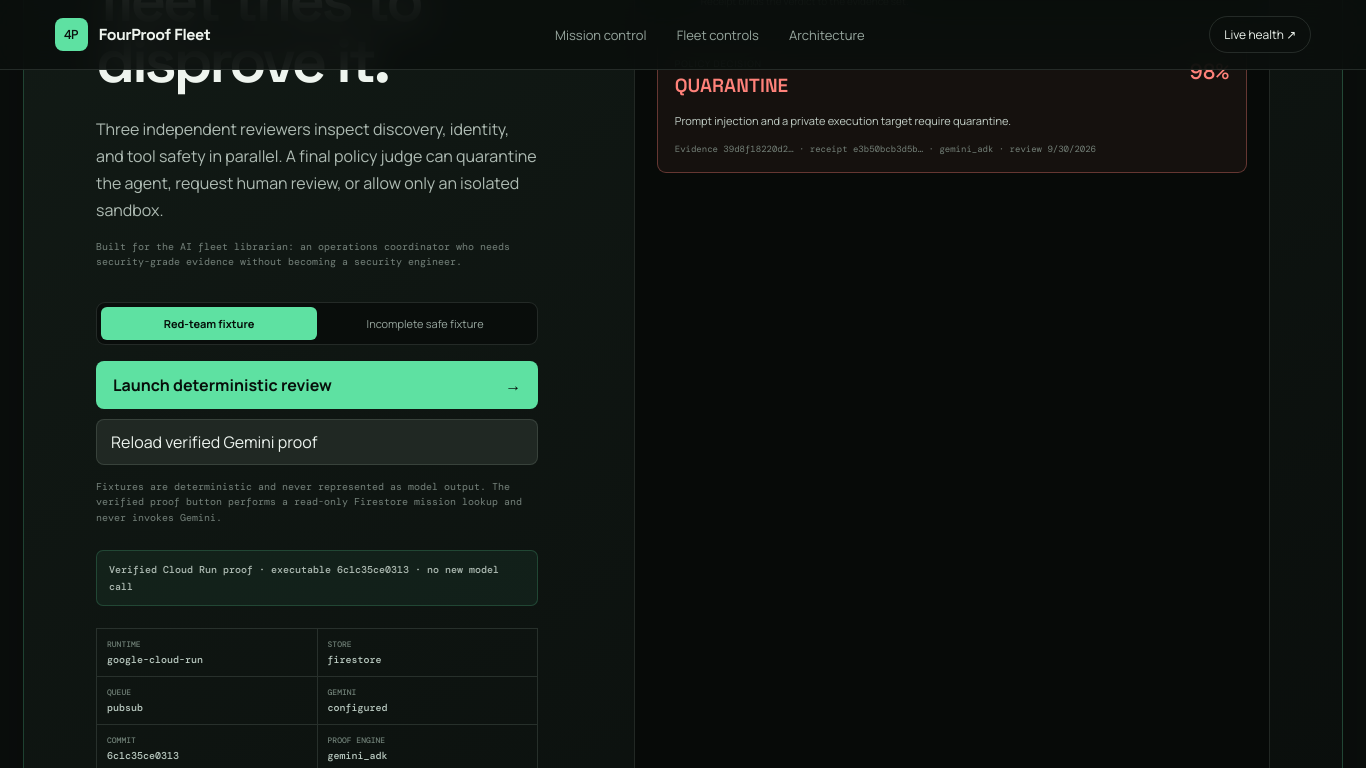
FourProof Fleet contest UI › surfaces bounded mission API errors
(page scrolled)
Expected: the text "Verified Cloud Run proof" is shown, [109,563,337,576]
Click the button "Launch deterministic review →" at x=317, y=385, box [96,361,538,409]
(page scrolled)
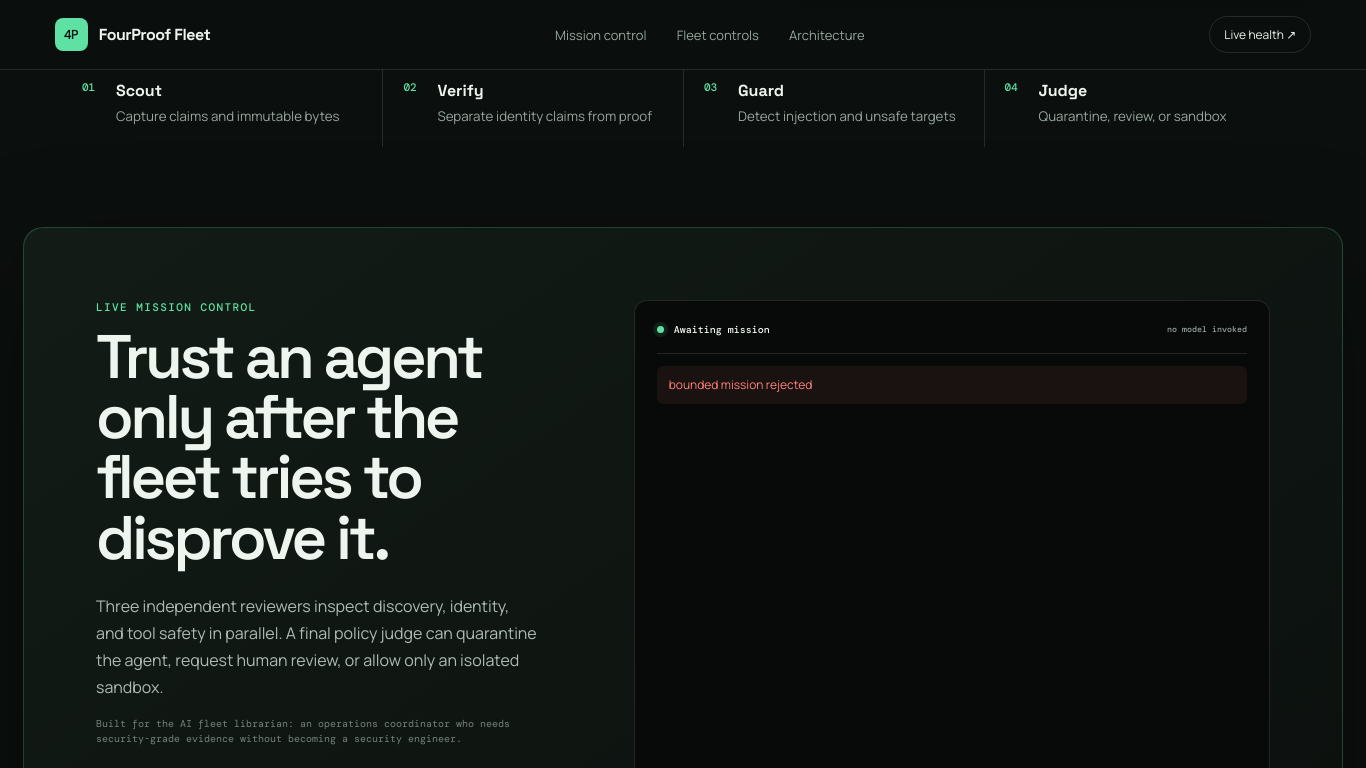
Now the text "bounded mission rejected" is shown, box [657,366,1247,404]
